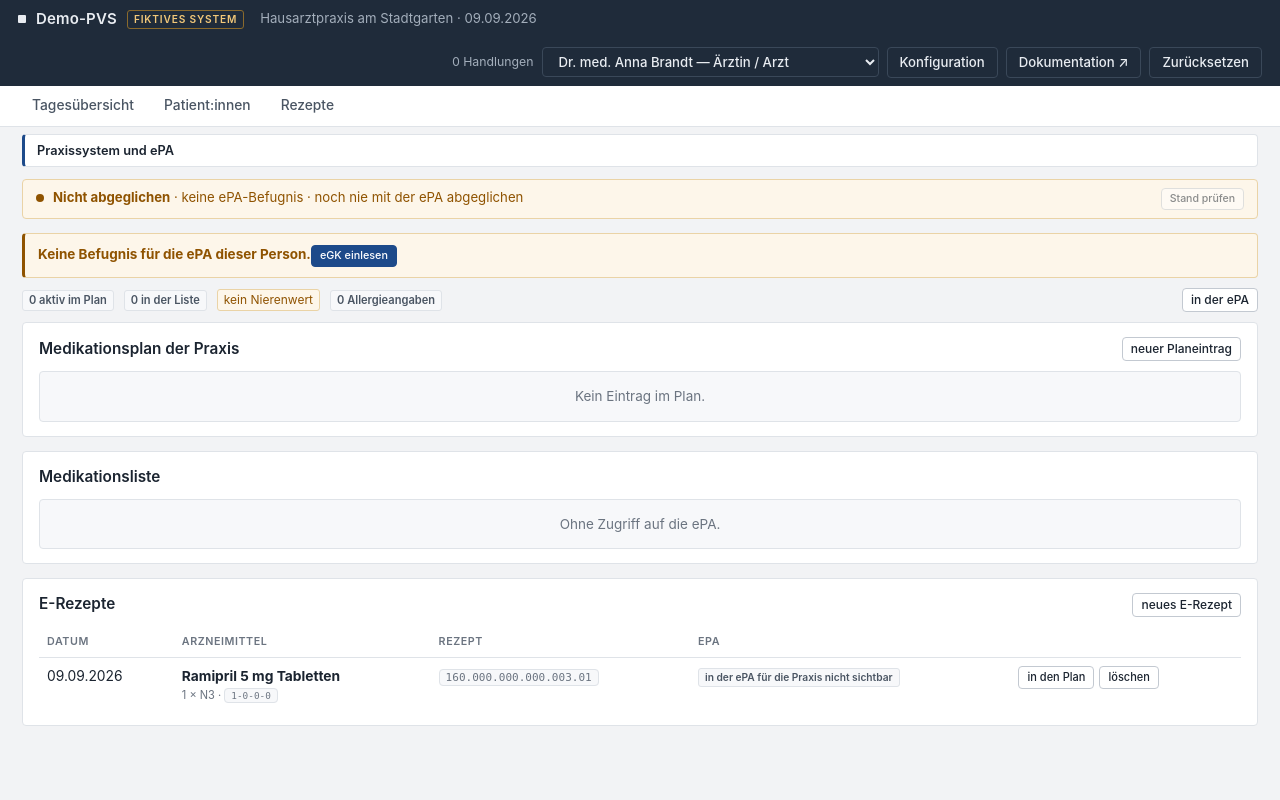
it: Medikationsplan der Praxis ohne Akte › setzt ab — das Mittel kann danach wieder aufgenommen werden
(page scrolled)
What coordinates should you click on to do the following:
click the button "in den Plan"
I would click on:
 (1056, 677)
Its box is [1018,666,1094,689].
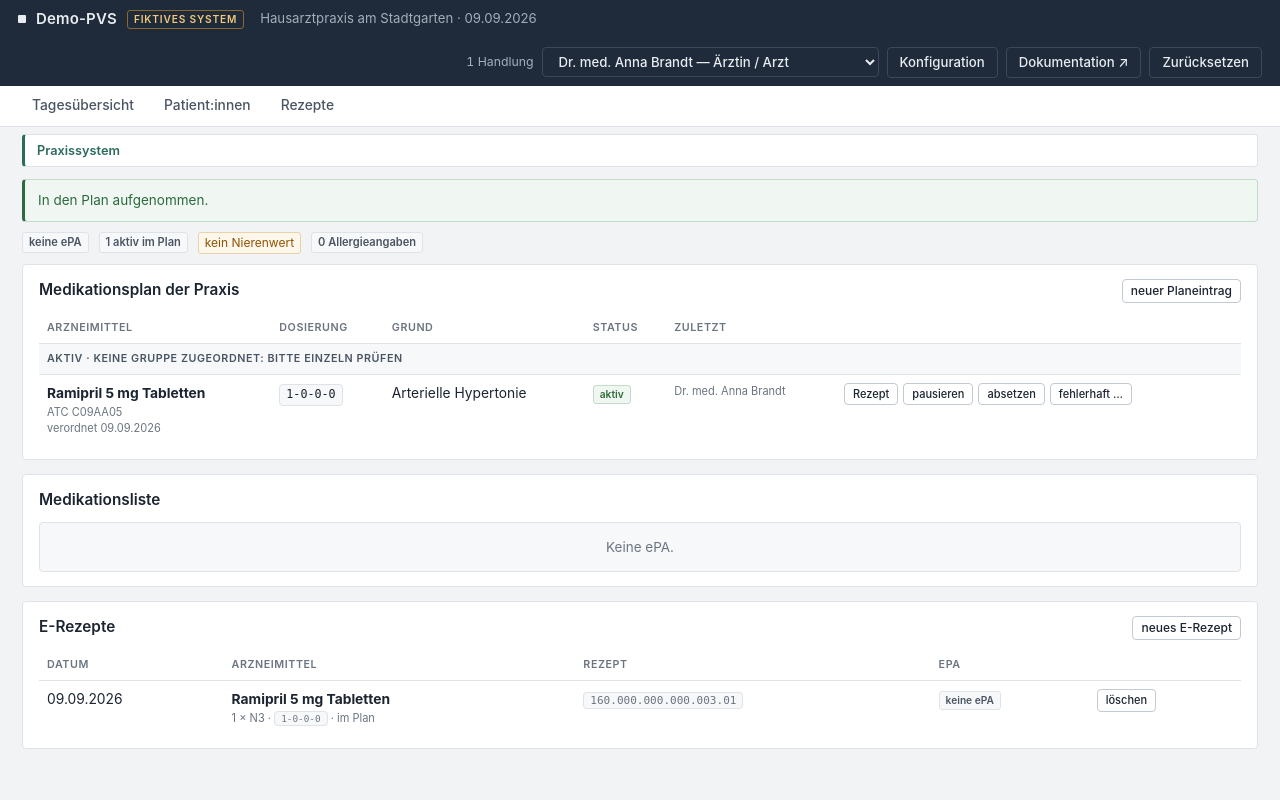
What coordinates should you click on to do the following:
click the button "absetzen"
I would click on:
 (1012, 394)
Its box is [978,383,1045,406].
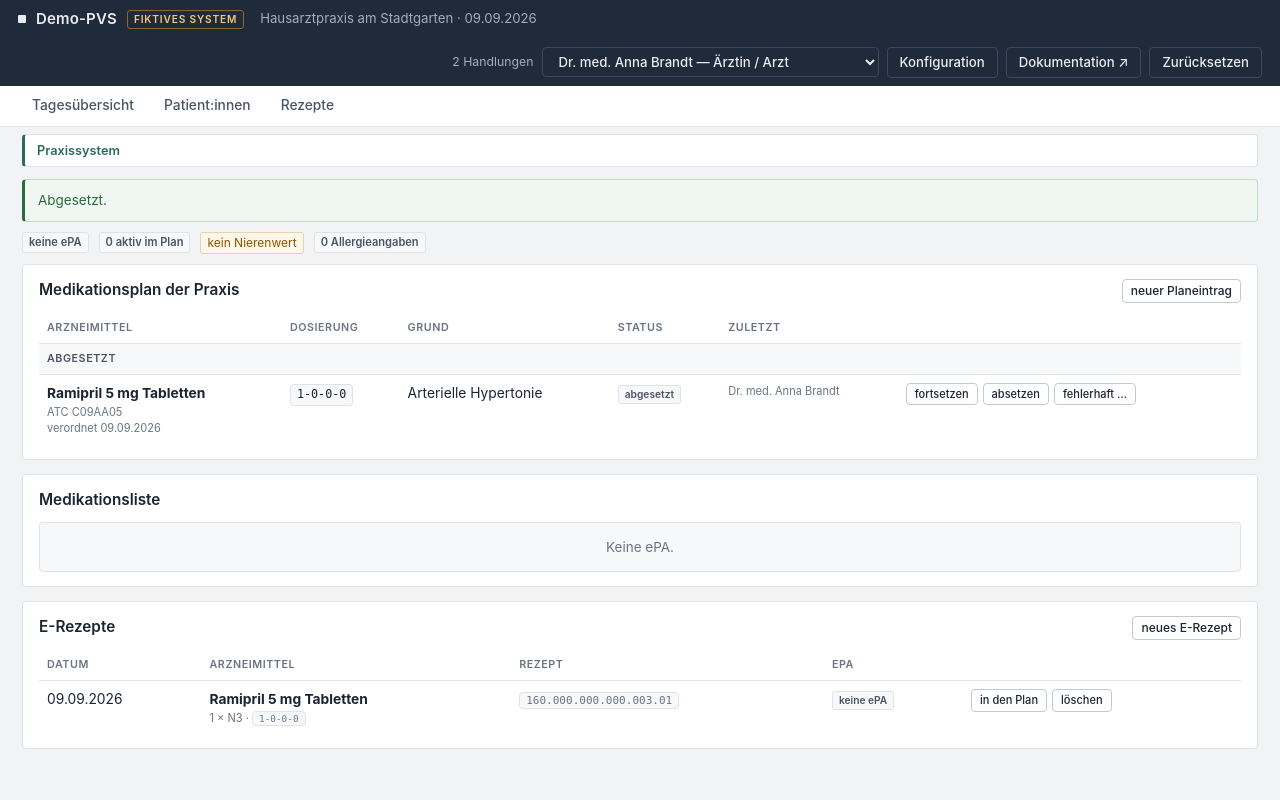
Expected: the button "in den Plan" is shown, [971,689,1047,712]
